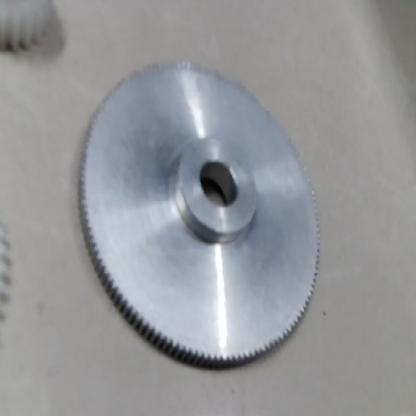FOD: (69, 49, 326, 372)
